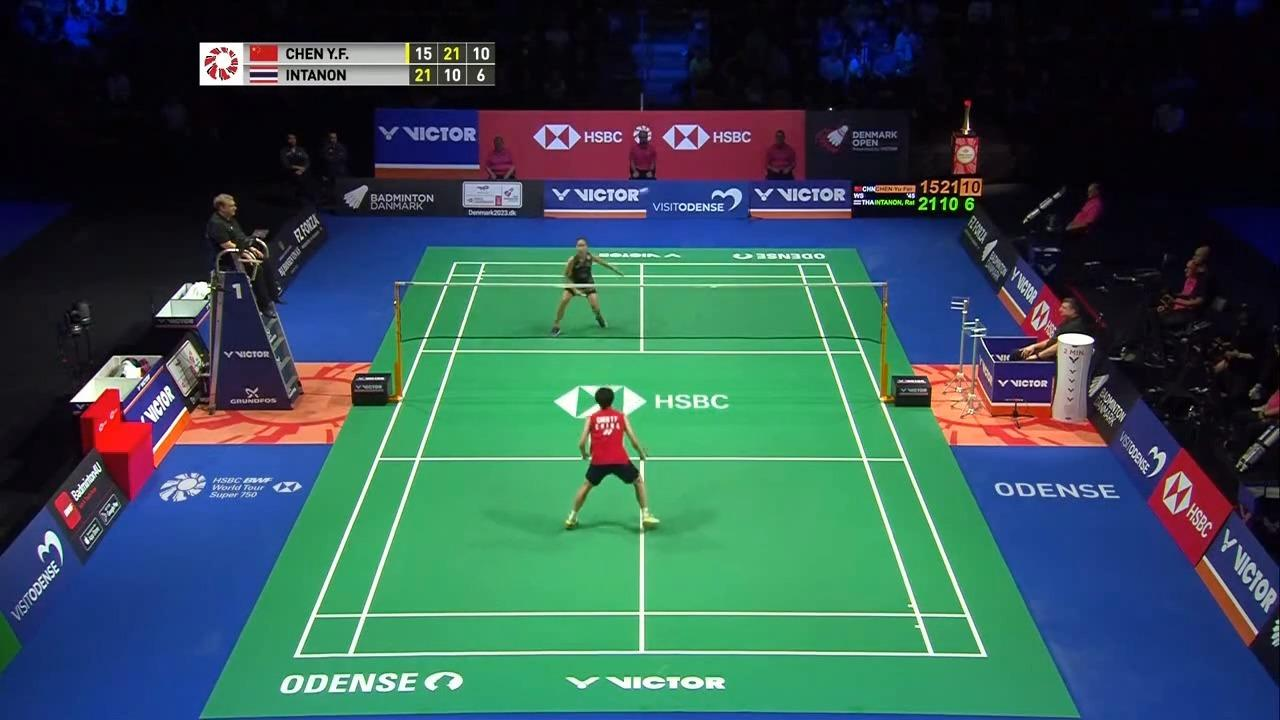shuttle: (639, 185, 651, 194)
